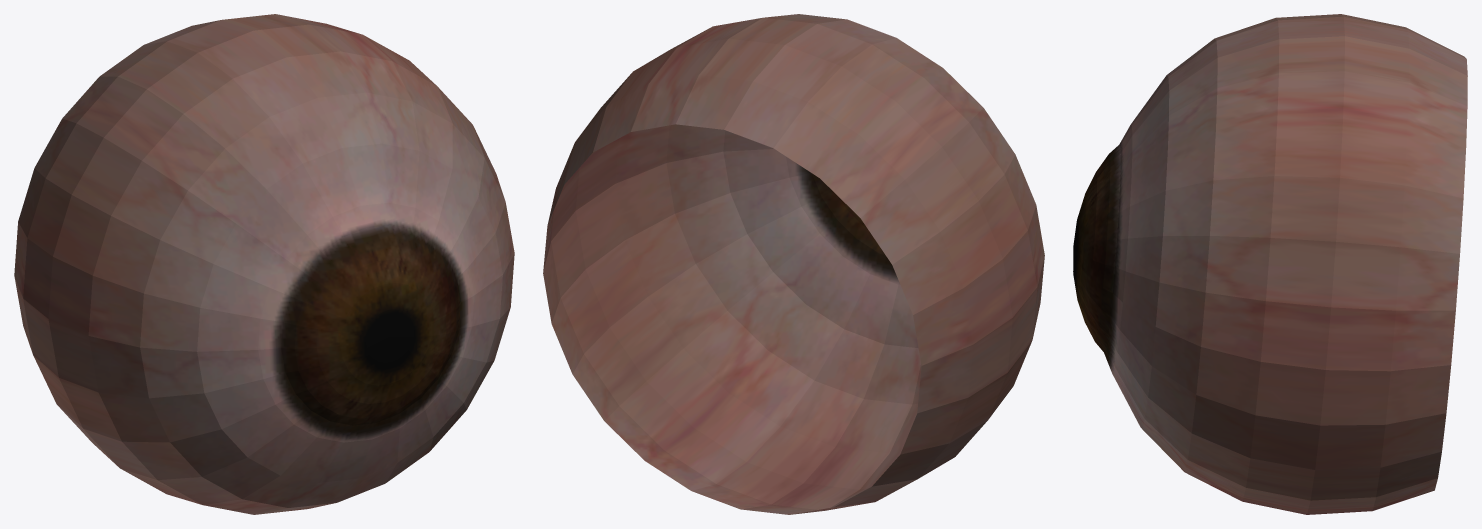
Rendered from wrestlerL.glb.
3 views of the same model, side by side, from view 1: azimuth 30°, elevation 25°; view 2: azimuth 150°, elevation 25°; view 3: azimuth 270°, elevation 25° (orthographic).
Parts seen in each view (by area): view 1: Object.011; view 2: Object.011; view 3: Object.011.
Part boxes in pixels (box(x1,y1,x2,y2)): Object.011: box(14, 14, 514, 514); Object.011: box(543, 14, 1044, 514); Object.011: box(1073, 14, 1467, 514).
Bounding box in the file's own units: 0.0332 × 0.0331 × 0.026.
1 material, 1 textured.
